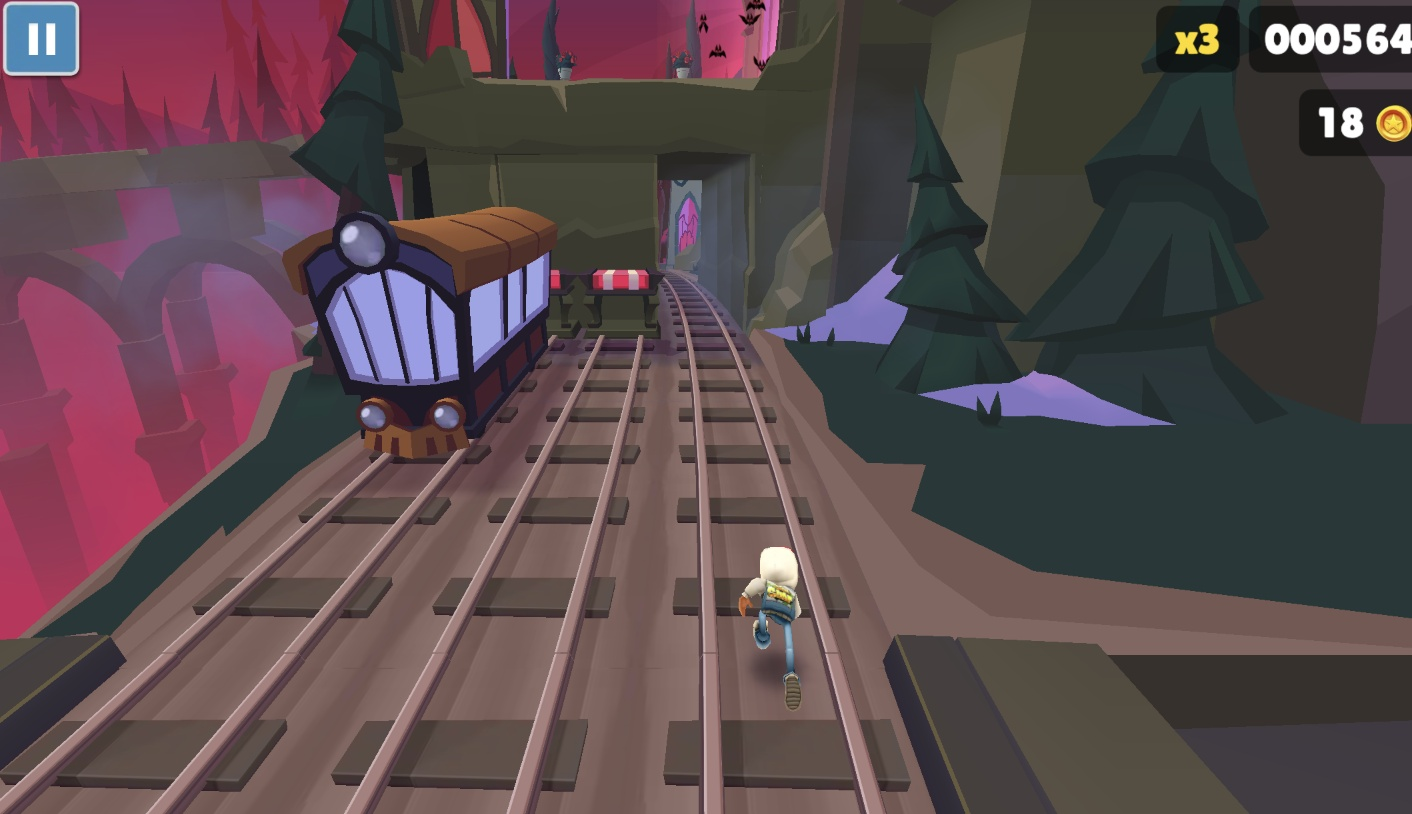ground_barrier: (578, 270, 665, 342), (542, 271, 583, 340)
train: (266, 207, 554, 487)
